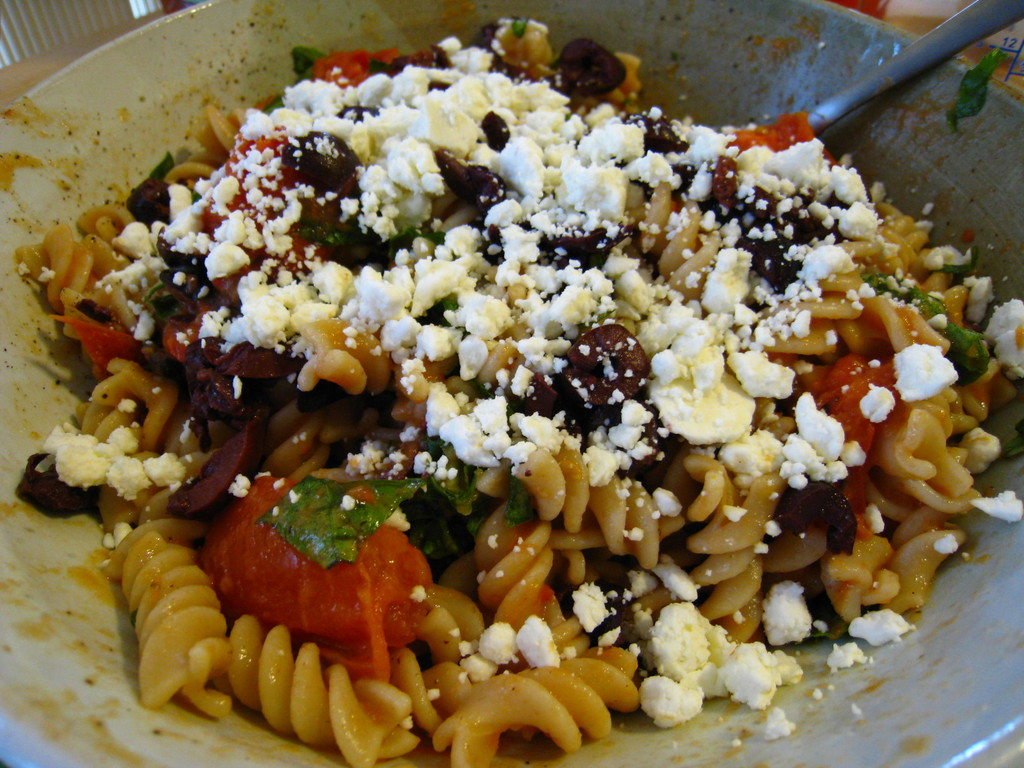pasta: (17, 106, 980, 767)
